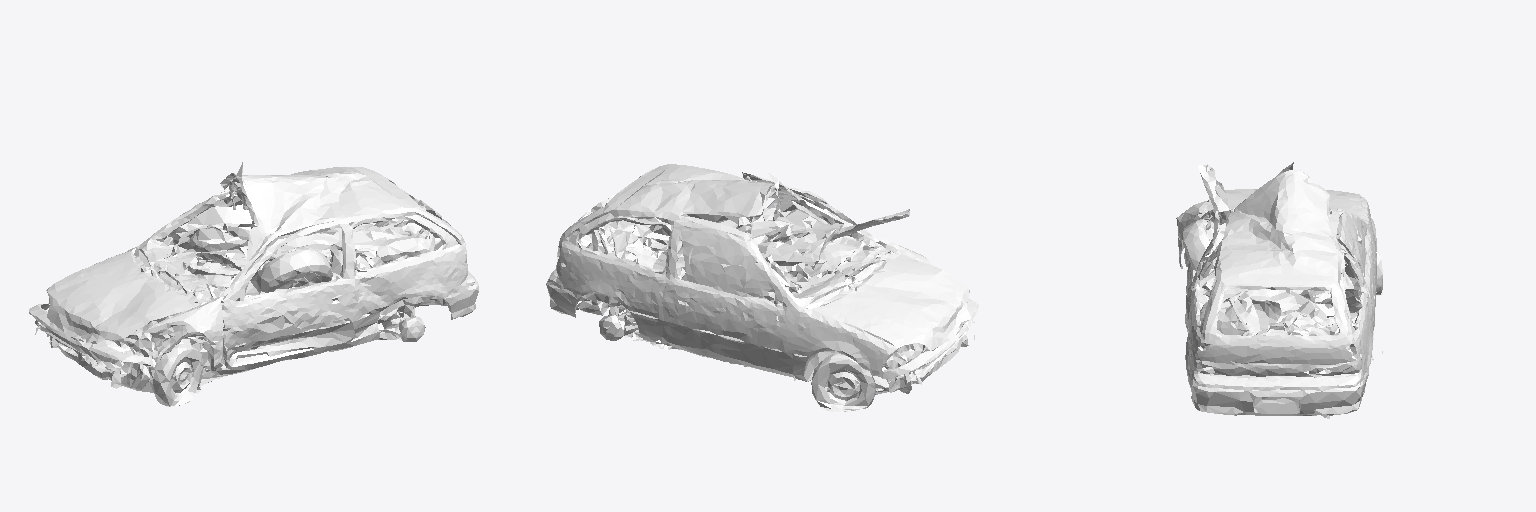
File: CarScan02.obj
3 renders of one model, left to right at view 1: azimuth 30°, elevation 25°; view 2: azimuth 150°, elevation 25°; view 3: azimuth 270°, elevation 25°, orthographic.
Visible parts, largest first — view 1: geo_dead; view 2: geo_dead; view 3: geo_dead.
Boxes of the visible parts, x1,y1,x2,y2 form: geo_dead: [29, 162, 478, 406]; geo_dead: [546, 164, 978, 412]; geo_dead: [1176, 162, 1382, 418].
Bounding box in the file's own units: 15.67 × 7.12 × 7.38.